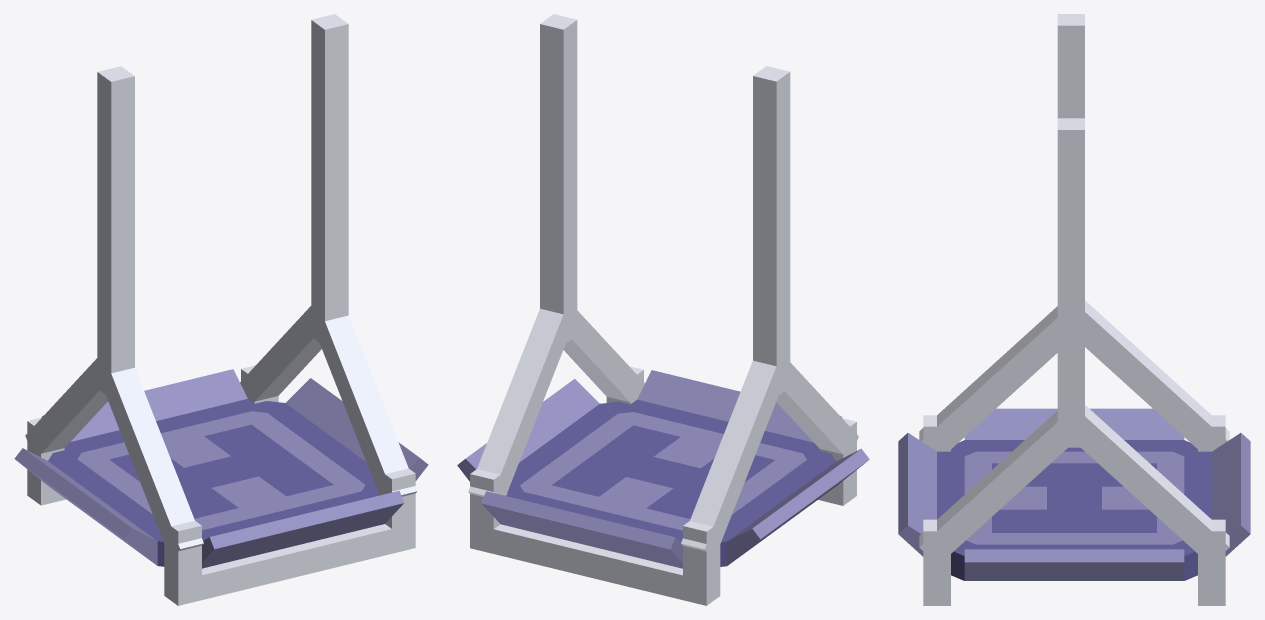
The model's file is FactoryManipulator.fbx.
3 renders of one model, left to right at view 1: azimuth 30°, elevation 25°; view 2: azimuth 150°, elevation 25°; view 3: azimuth 270°, elevation 25°, orthographic.
Visible parts, largest first — view 1: mergedBlocks; view 2: mergedBlocks; view 3: mergedBlocks.
Boxes of the visible parts, bbox=[...] form: mergedBlocks: bbox=[14, 14, 428, 605]; mergedBlocks: bbox=[457, 14, 869, 605]; mergedBlocks: bbox=[898, 14, 1250, 605].
Bounding box in the file's own units: 16.68 × 24.85 × 16.68.
